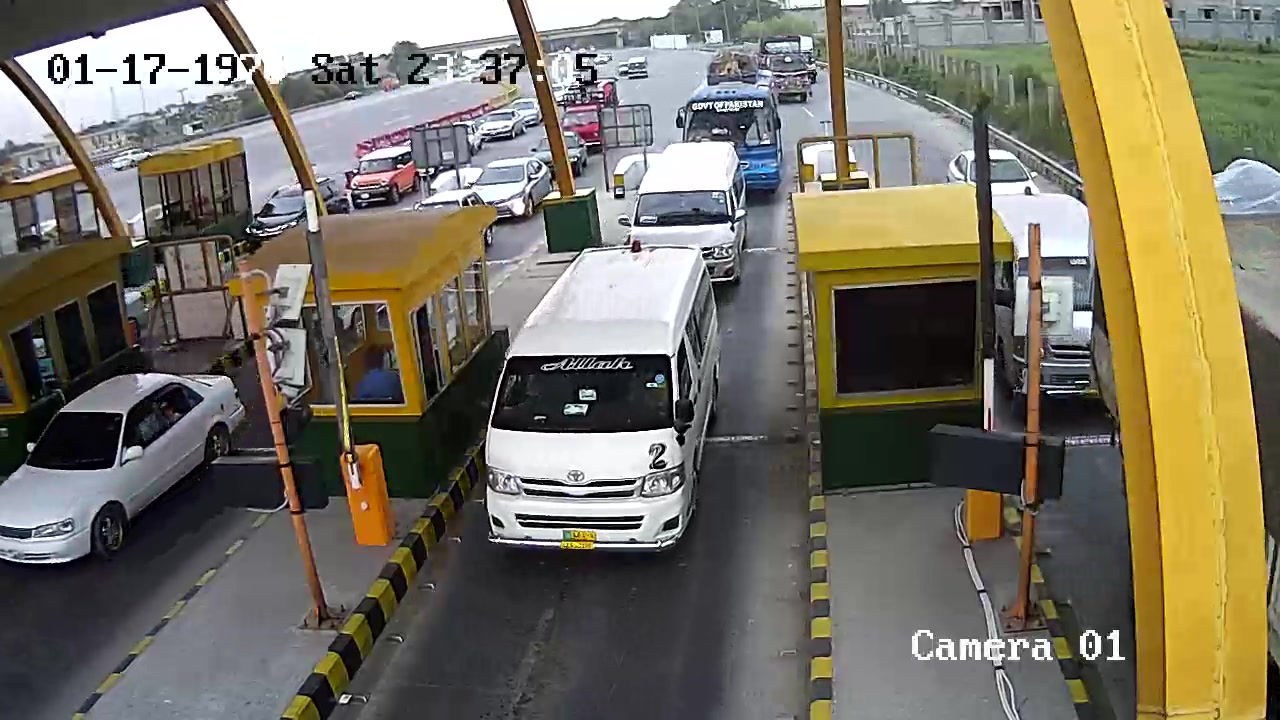F3: (481, 244, 727, 561)
